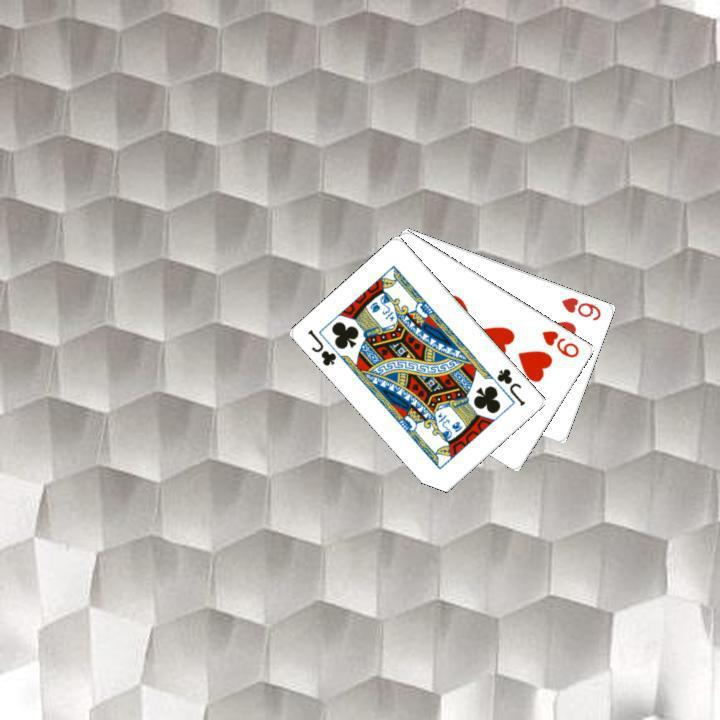6: (557, 292, 603, 323)
9: (538, 326, 582, 360)
J: (492, 364, 528, 408), (303, 325, 339, 368)
